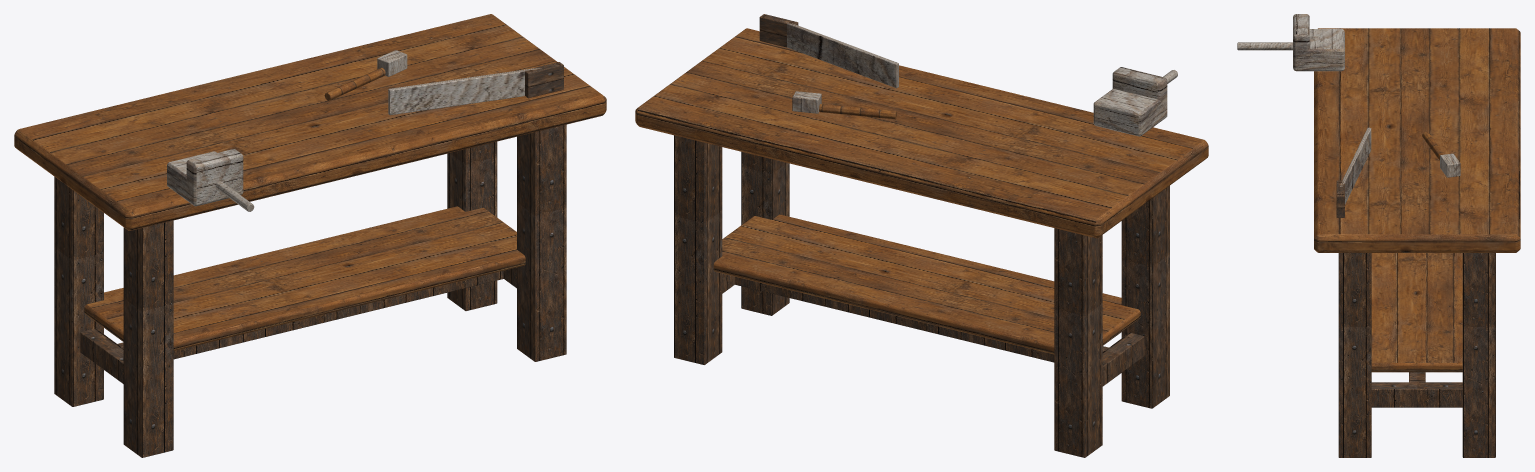
Rendered from workbench-v01.glb.
3 views of the same model, side by side, from view 1: azimuth 30°, elevation 25°; view 2: azimuth 150°, elevation 25°; view 3: azimuth 270°, elevation 25° (orthographic). The views are drawn at different scales.
Parts seen in each view (by area): view 1: workbench; view 2: workbench; view 3: workbench.
Boxes of the visible parts, x1,y1,x2,y2 form: workbench: (14,14,606,457); workbench: (635,14,1208,457); workbench: (1237,14,1520,457).
Size of the model in its own units: 2.4 by 1.45 by 1.37.
Materials: 4 (4 with a texture image).
